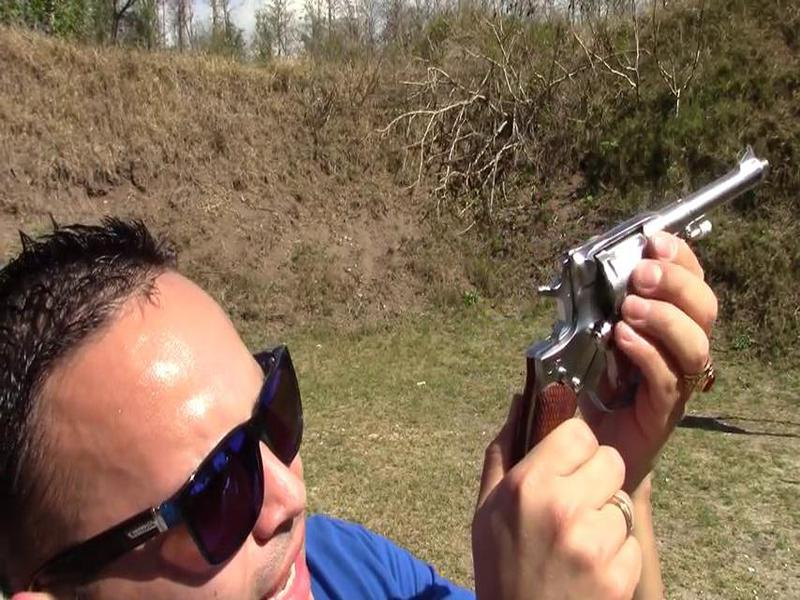Revolver: (510, 140, 798, 439)
